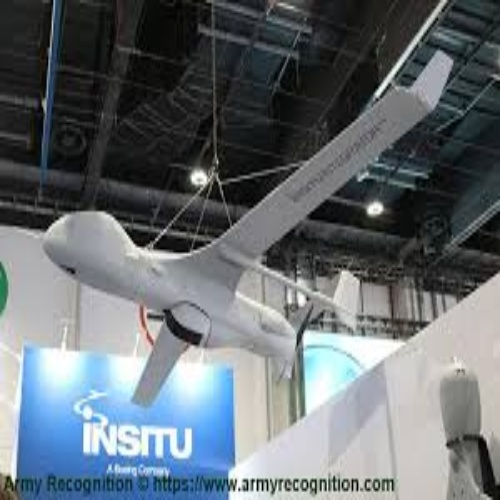uav400: (38, 204, 307, 405)
